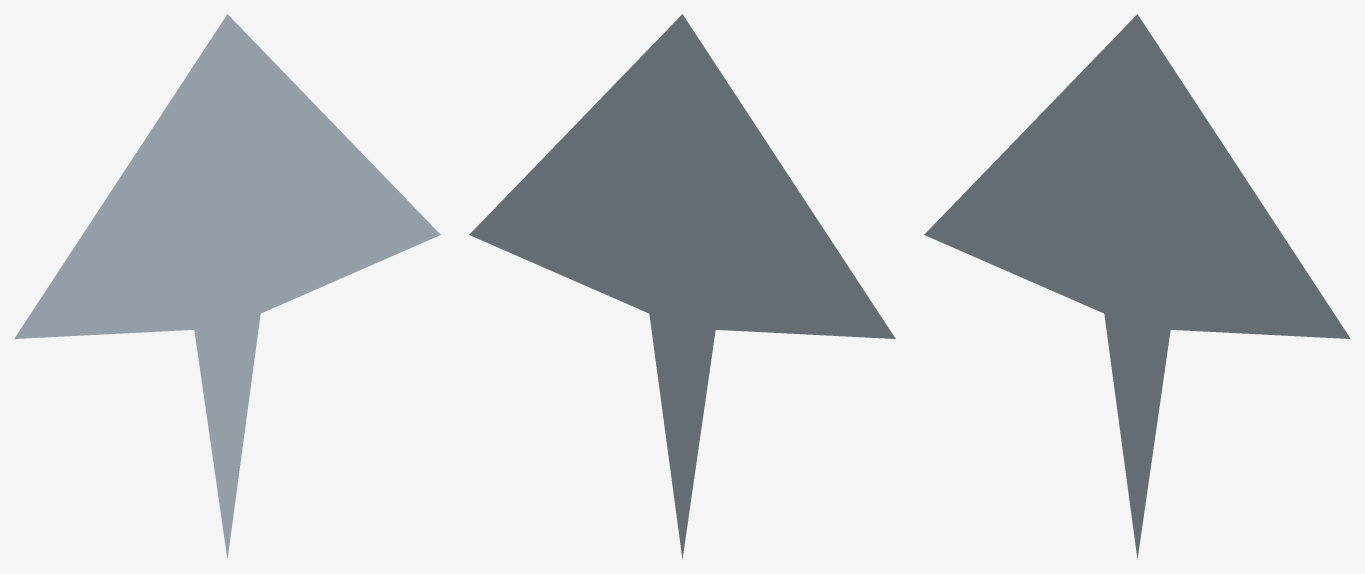
File: Ganyu_CelestialShowerState_State_FrostGrain.fbx
3 renders of one model, left to right at view 1: azimuth 30°, elevation 25°; view 2: azimuth 150°, elevation 25°; view 3: azimuth 330°, elevation 25°, orthographic.
Parts seen in each view (by area): view 1: PART_FourProngedFrostGrain; view 2: PART_FourProngedFrostGrain; view 3: PART_FourProngedFrostGrain.
Boxes of the visible parts, x1,y1,x2,y2 form: PART_FourProngedFrostGrain: (14, 14, 440, 559); PART_FourProngedFrostGrain: (469, 14, 895, 559); PART_FourProngedFrostGrain: (924, 14, 1350, 559).
Size of the model in its own units: 18 by 22 by 3.58e-06.
